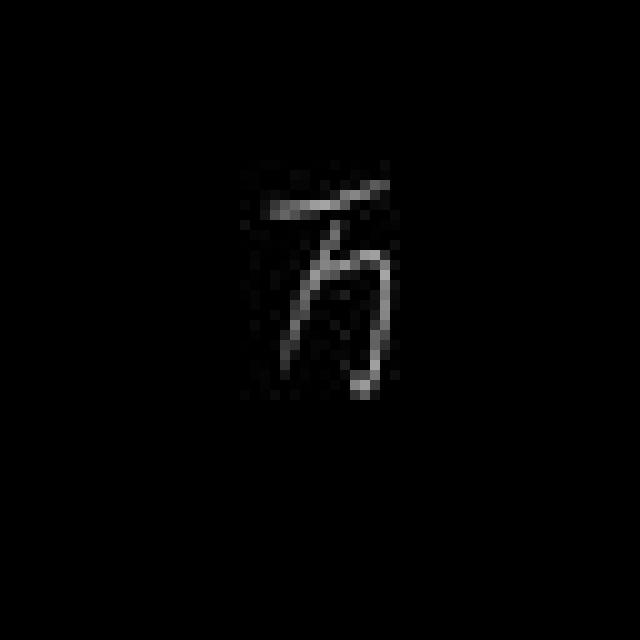10000 -a ten thousand-: (249, 166, 410, 416)
